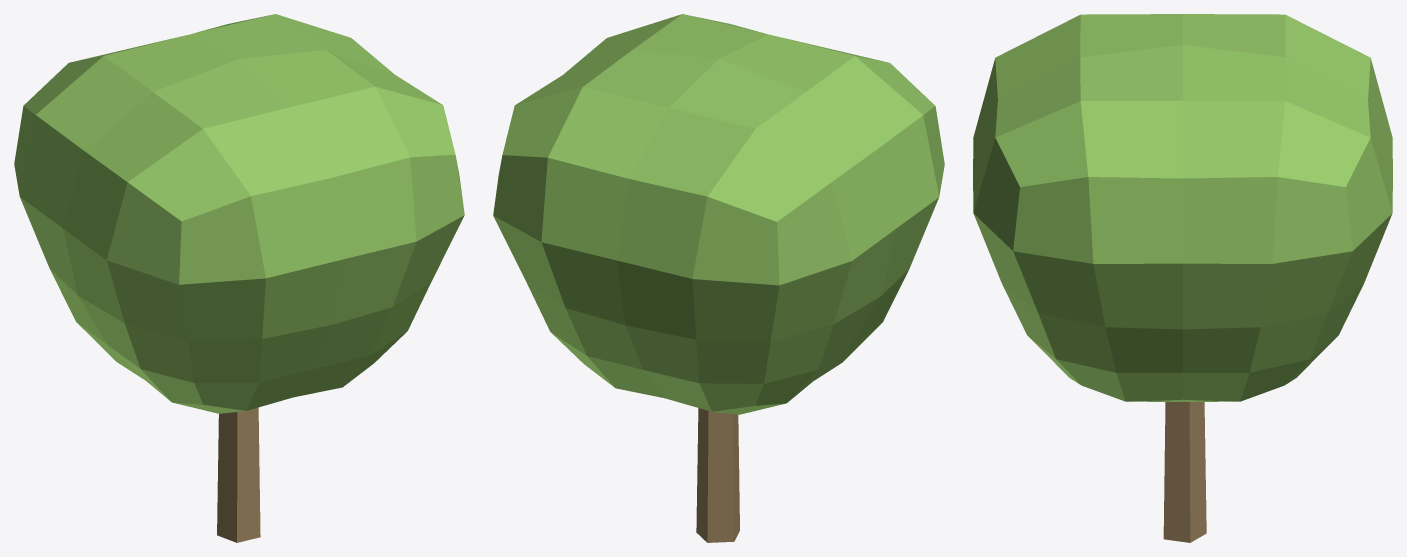
Rendered from Thuja_Tree_s_07_LOD.fbx.
3 views of the same model, side by side, from view 1: azimuth 30°, elevation 25°; view 2: azimuth 150°, elevation 25°; view 3: azimuth 270°, elevation 25° (orthographic). The views are drawn at different scales.
Visible parts, largest first — view 1: Thuja_Tree_s_07_LOD0; view 2: Thuja_Tree_s_07_LOD0; view 3: Thuja_Tree_s_07_LOD0.
Part boxes in pixels (x1=…): Thuja_Tree_s_07_LOD0: x1=14, y1=14, x2=464, y2=542; Thuja_Tree_s_07_LOD0: x1=493, y1=14, x2=944, y2=542; Thuja_Tree_s_07_LOD0: x1=973, y1=14, x2=1392, y2=542.
Size of what is drawn, in the model's own units: 197 by 253 by 197.
